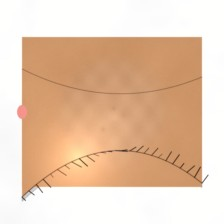pinguecula_lesion: (134, 93, 183, 132)
